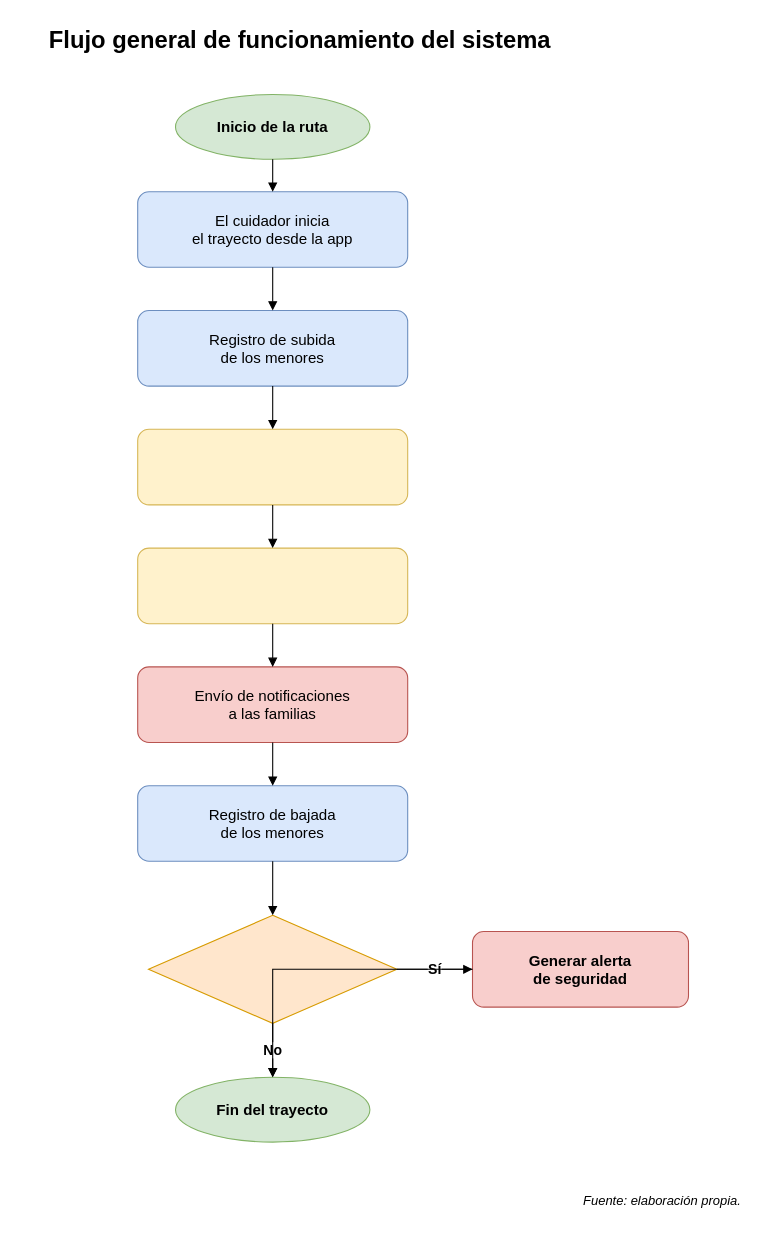
Image size: 760x1236. Some labels were removed from this diagram. Each missing label, with the centre of its shape:
Actualización de datos en el sistema: (272,466)
Seguimiento del autobús mediante GPS: (272,585)
¿Queda algún menor en el autobús?: (272,968)
